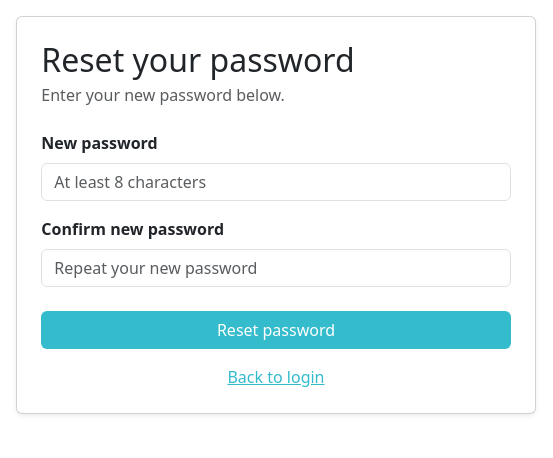
Test case: ResetPasswordPage › shows an error when the passwords do not match
Type "password123" into the password field labelled "New password".
click(276, 182); type("password123")  # box x1=41 y1=163 x2=511 y2=201
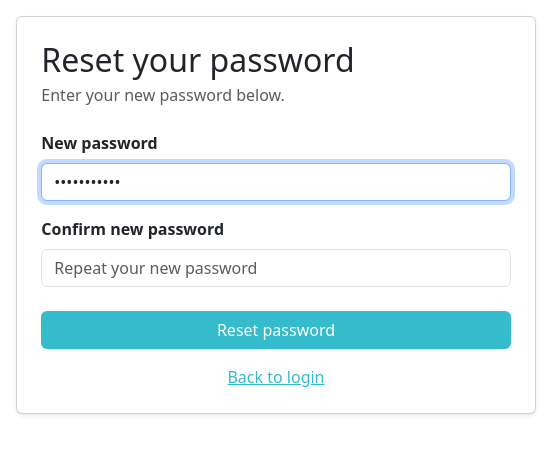
Type "different123" into the password field labelled "Confirm new password".
click(276, 268); type("different123")  # box x1=41 y1=249 x2=511 y2=287
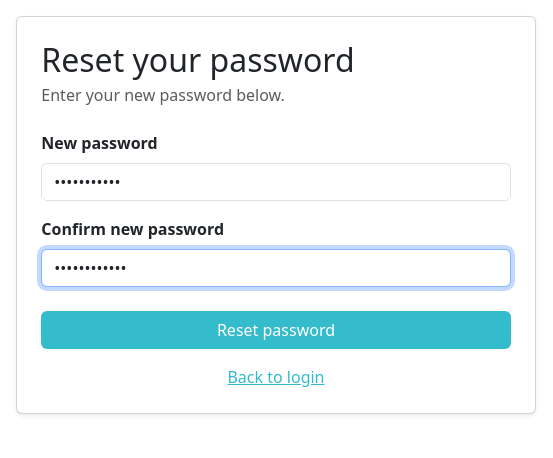
Click the button "Reset password".
click(276, 330)  # box x1=41 y1=311 x2=511 y2=349
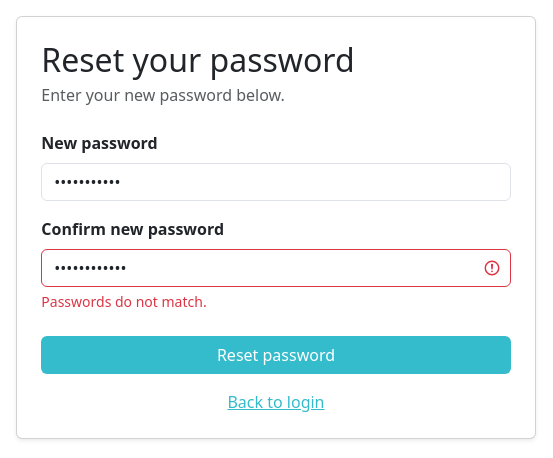
Now the text "Passwords do not match." is shown, box x1=41 y1=292 x2=207 y2=311
